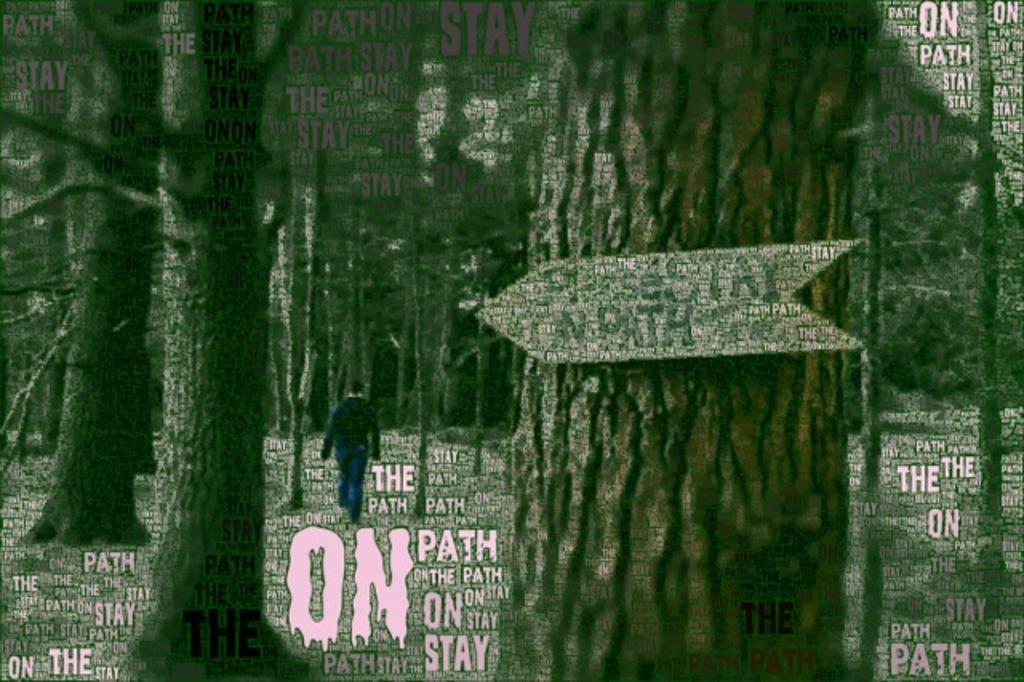Tree: (502, 0, 871, 669), (0, 0, 299, 680), (0, 0, 160, 552), (974, 0, 1008, 569)
